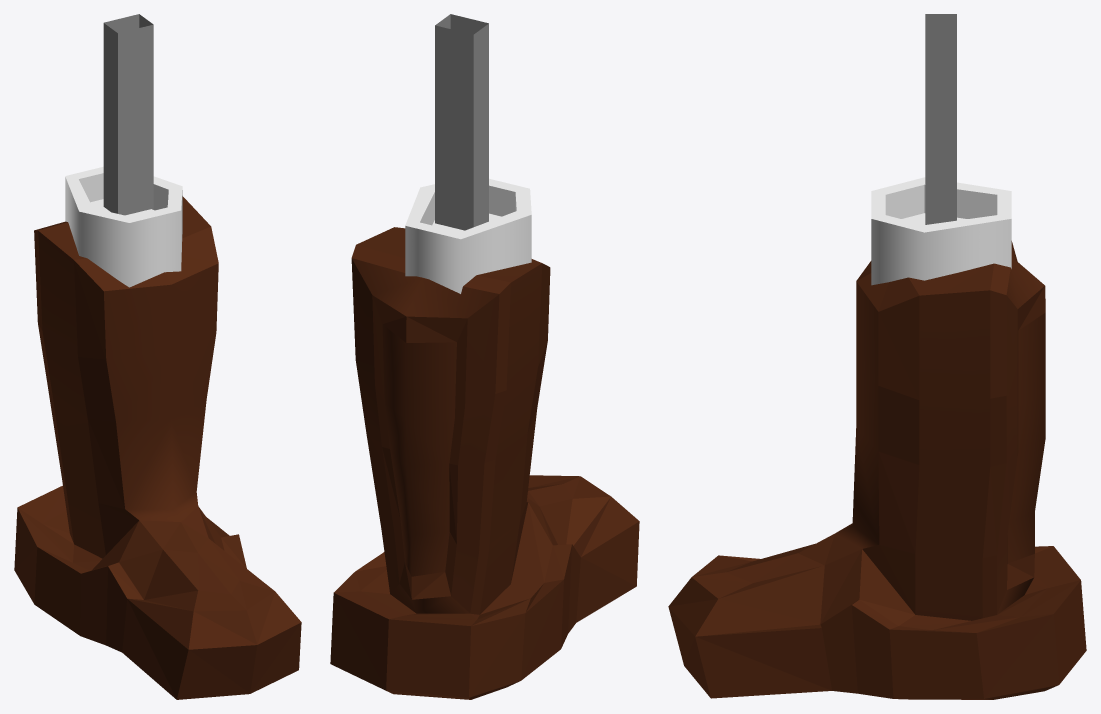
File: Props_Leg.FBX
3 renders of one model, left to right at view 1: azimuth 30°, elevation 25°; view 2: azimuth 150°, elevation 25°; view 3: azimuth 270°, elevation 25°, orthographic. The views are drawn at different scales.
Parts seen in each view (by area): view 1: Leg; view 2: Leg; view 3: Leg.
Boxes of the visible parts, x1=… form: Leg: x1=14, y1=14, x2=301, y2=699; Leg: x1=330, y1=14, x2=639, y2=699; Leg: x1=668, y1=14, x2=1086, y2=699.
Bounding box in the file's own units: 132 × 469 × 277.
